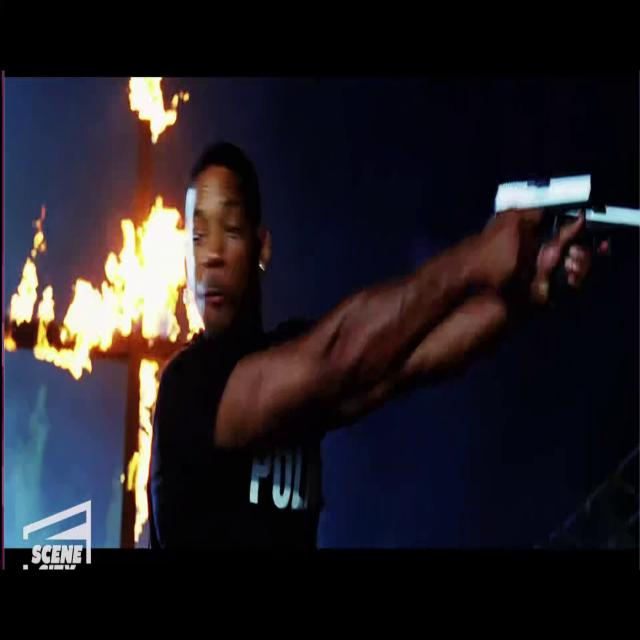weapons: (484, 152, 600, 260), (552, 176, 639, 295)
